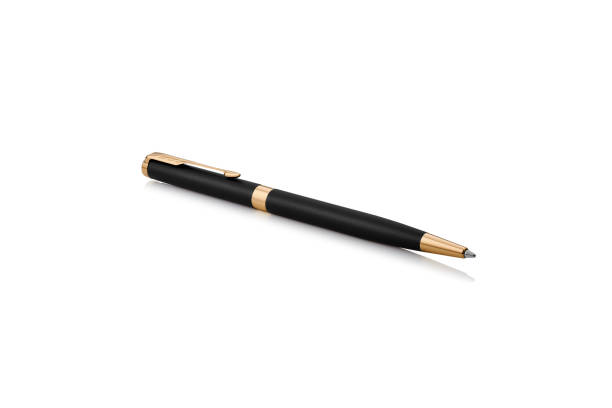pen: (138, 148, 488, 265)
